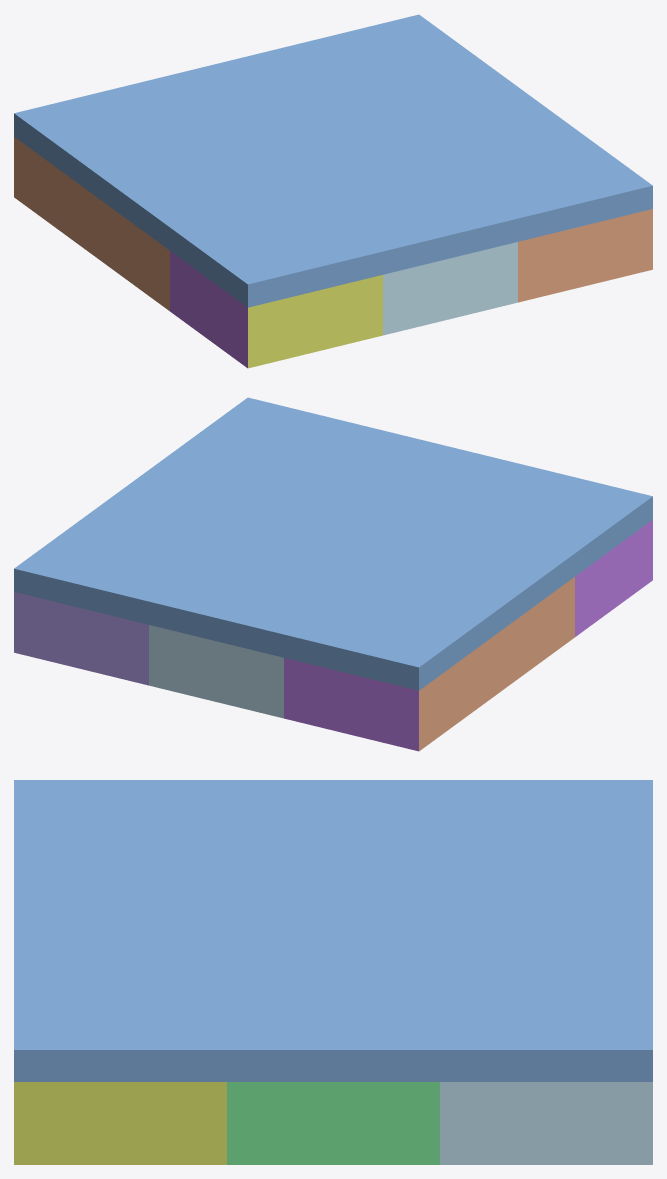
Rendered from tile_textures.fbx.
3 renders of one model, top to bottom at view 1: azimuth 30°, elevation 25°; view 2: azimuth 150°, elevation 25°; view 3: azimuth 270°, elevation 25°, orthographic. The views are drawn at different scales.
Parts seen in each view (by area): view 1: Cube; view 2: Cube; view 3: Cube.
Part boxes in pixels (bbox=[...]): Cube: bbox=[14, 14, 652, 368]; Cube: bbox=[14, 397, 652, 751]; Cube: bbox=[14, 780, 652, 1164].
Bounding box in the file's own units: 200 × 39.63 × 200.
